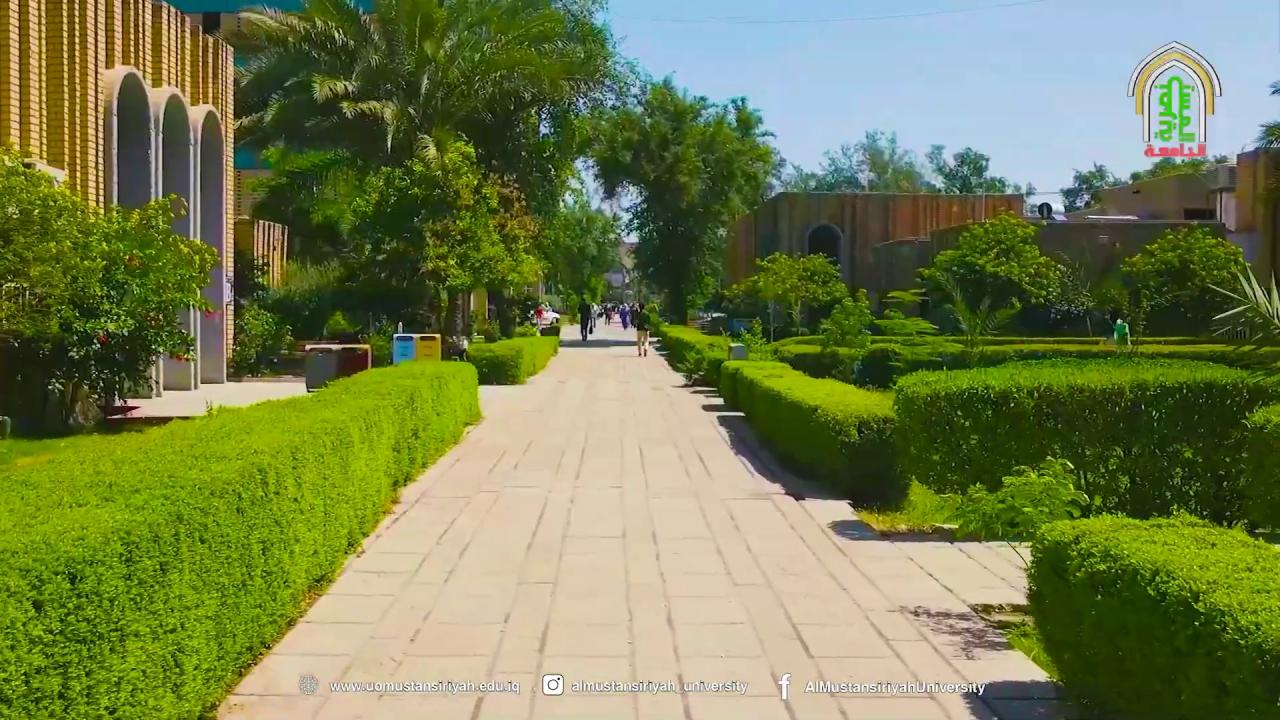person: (632, 302, 651, 357), (577, 296, 591, 341), (1113, 317, 1131, 351)
tree: (233, 0, 611, 357), (1025, 509, 1278, 718), (577, 75, 777, 326), (341, 133, 532, 358), (914, 207, 1072, 344), (1118, 224, 1251, 344), (540, 202, 622, 325), (749, 250, 847, 338), (815, 128, 921, 193), (1204, 261, 1279, 341), (228, 300, 293, 376), (1041, 249, 1096, 336), (924, 142, 1007, 194), (817, 288, 874, 349), (1059, 161, 1124, 212), (1256, 80, 1279, 150)
